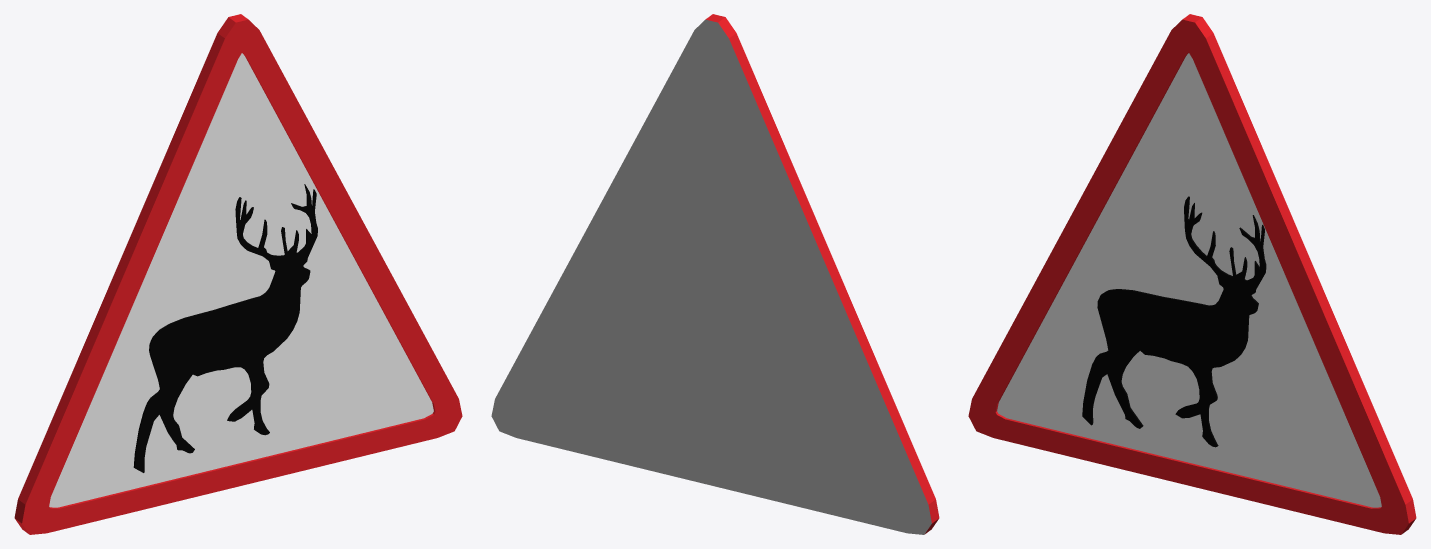
Rendered from SM_animals_sign.fbx.
3 views of the same model, side by side, from view 1: azimuth 30°, elevation 25°; view 2: azimuth 150°, elevation 25°; view 3: azimuth 330°, elevation 25° (orthographic).
Visible parts, largest first — view 1: SM_animals_sign; view 2: SM_animals_sign; view 3: SM_animals_sign.
Boxes of the visible parts, <box> form: SM_animals_sign: <box>14,14,462,534</box>; SM_animals_sign: <box>491,14,939,534</box>; SM_animals_sign: <box>968,14,1416,534</box>.
Size of the model in its own units: 104 by 105 by 3.09.
